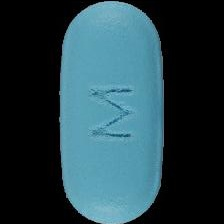43353-554: (0, 0, 224, 224)
